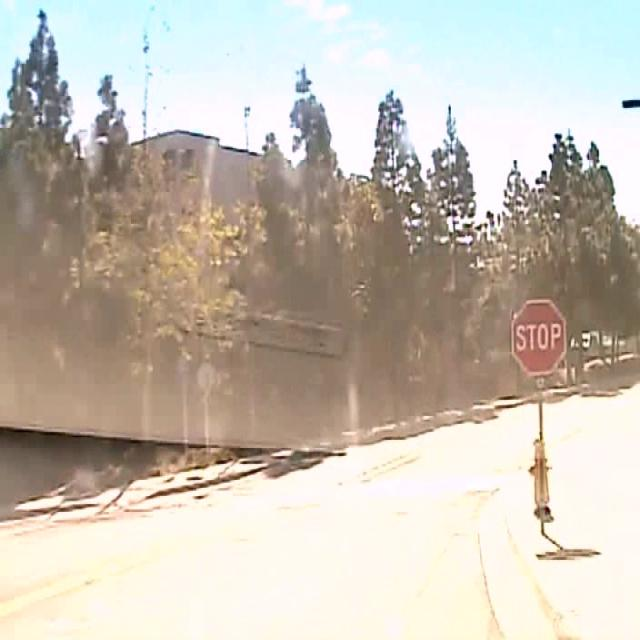stop: (511, 299, 566, 376)
